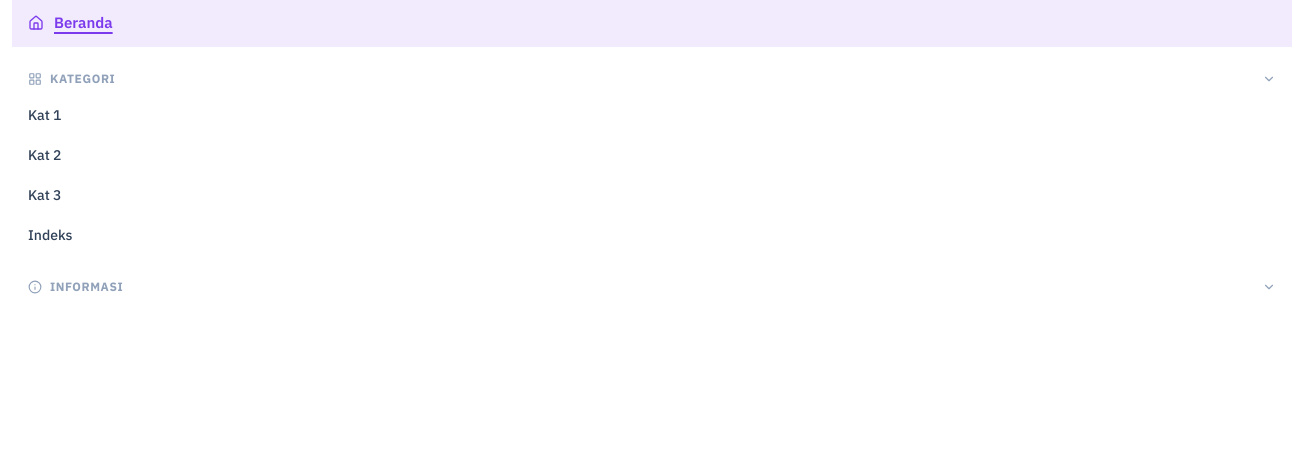
Test: PurpleEditorialMobileNav › menampilkan kategori langsung dan menyembunyikan informasi hingga dibuka
Expected: the link "Beranda" is shown, [12, 0, 1292, 46]
Expected: the link "Kat 3" is shown, [28, 186, 62, 204]
Step 1. Click the button "Informasi" → {"x": 87, "y": 286}, box [12, 278, 1292, 294]
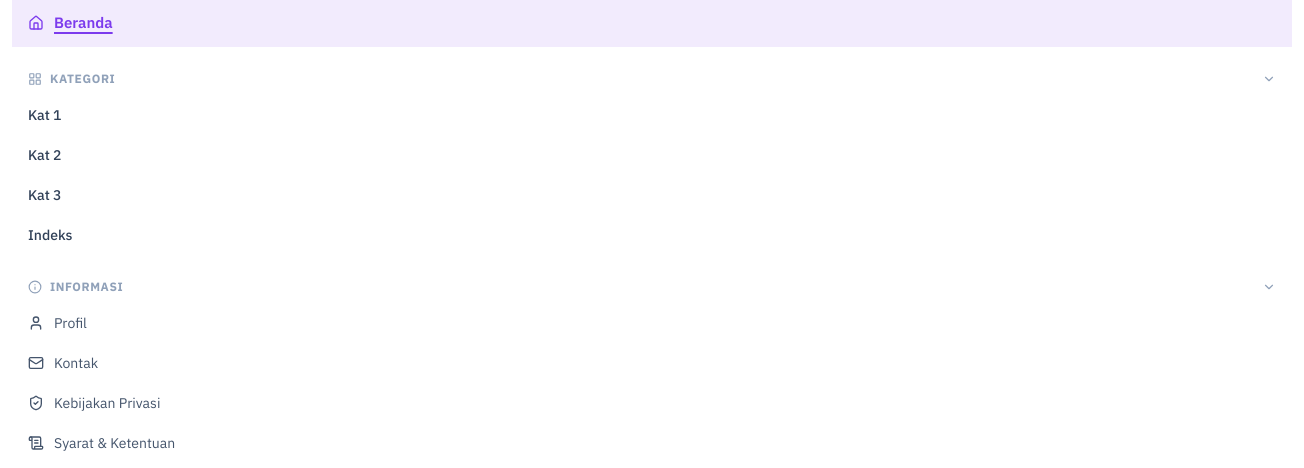
Expected: the link "Profil" is shown, [28, 314, 87, 332]
Expected: the link "Kontak" is shown, [28, 354, 98, 372]
